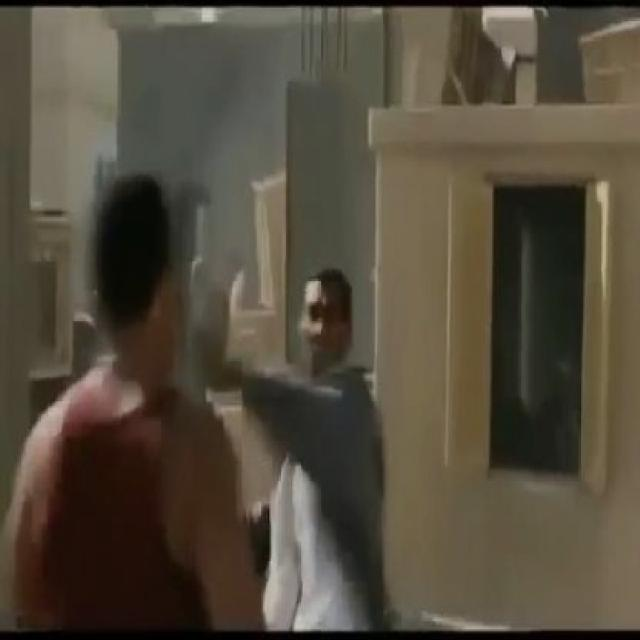fight: (2, 177, 389, 637)
